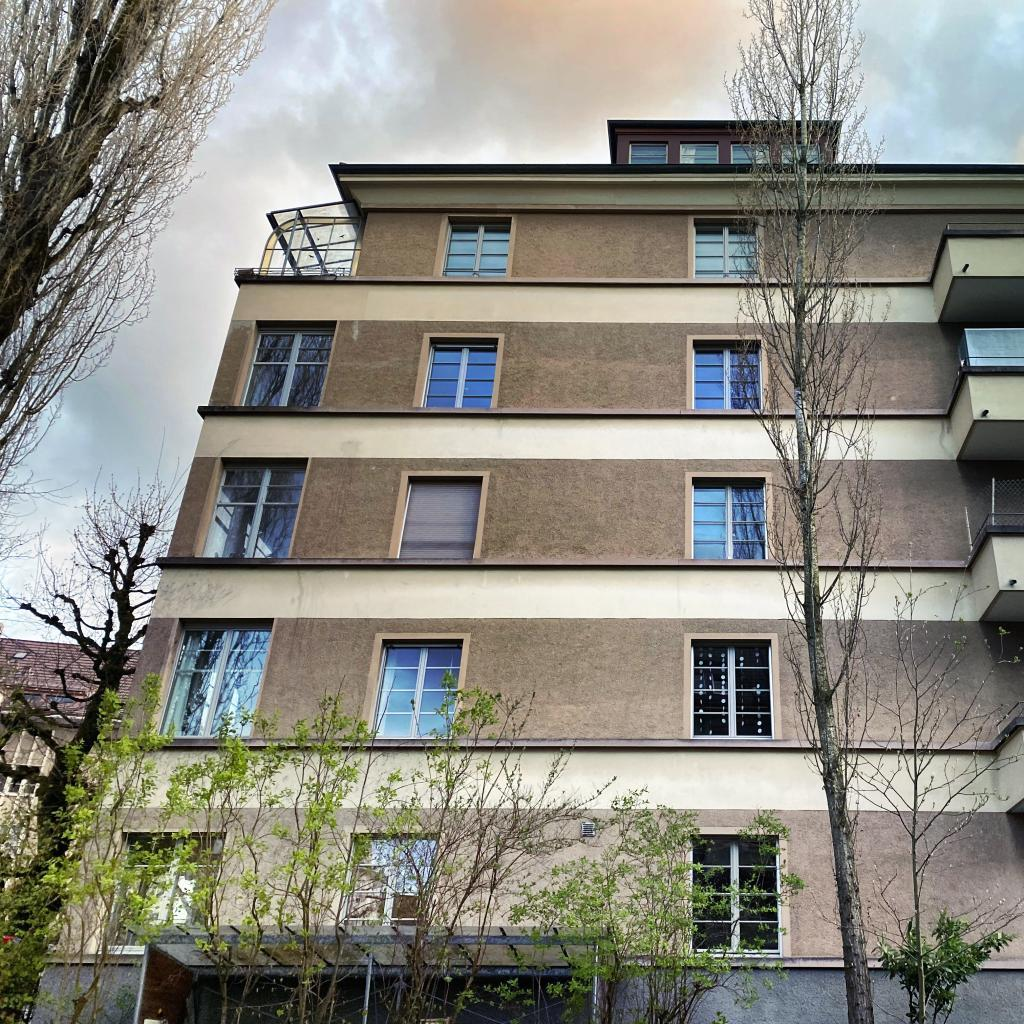balcony-fence: (256, 200, 363, 279), (971, 513, 1024, 551), (234, 267, 353, 277), (996, 700, 1024, 734), (962, 356, 1024, 367), (946, 222, 1024, 230)
facade: (0, 118, 1024, 1023)
non-building-infrastructure: (118, 920, 624, 1024)
vegetation: (0, 0, 812, 1024), (723, 0, 1024, 1024)
window: (155, 622, 273, 738), (108, 832, 224, 943), (690, 836, 781, 955), (202, 460, 308, 558), (372, 641, 462, 739), (346, 835, 439, 923), (692, 639, 773, 740), (237, 325, 336, 407), (400, 477, 483, 558), (693, 479, 767, 559), (422, 338, 498, 407), (694, 340, 763, 409), (443, 218, 511, 277), (695, 220, 760, 277), (14, 689, 84, 704), (628, 141, 668, 164), (730, 141, 770, 164), (680, 142, 719, 163), (781, 143, 820, 164), (14, 650, 28, 659)
